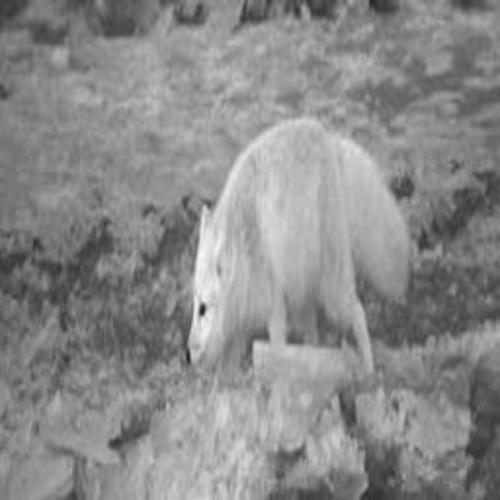arctic_fox-endangered: (186, 118, 407, 372)
